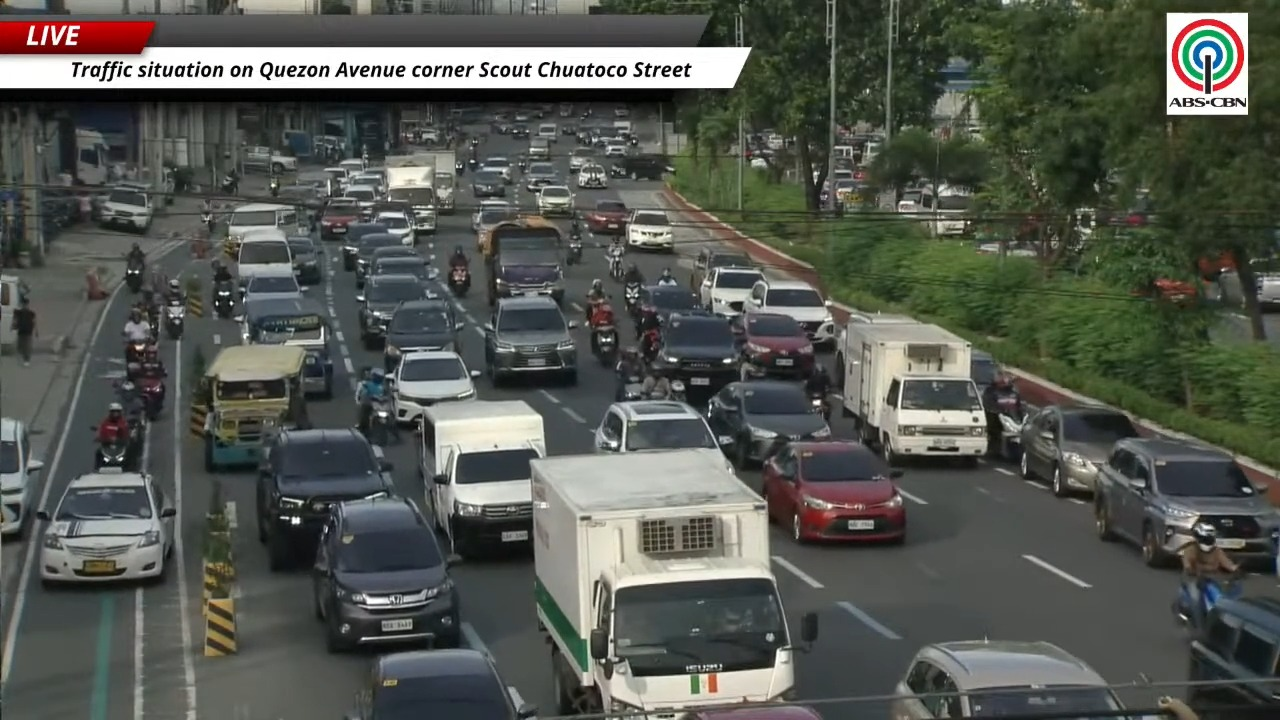car: (1094, 437, 1279, 566), (311, 496, 461, 651), (255, 428, 393, 571), (890, 640, 1127, 719), (37, 469, 174, 584), (762, 441, 906, 542), (347, 649, 536, 719), (1019, 405, 1139, 497), (1187, 597, 1279, 717), (707, 380, 830, 468), (483, 296, 577, 384), (652, 313, 737, 398), (744, 277, 836, 347), (595, 400, 717, 452), (392, 350, 480, 422), (384, 298, 463, 370), (732, 312, 815, 379), (356, 275, 431, 349), (0, 417, 43, 535), (697, 266, 763, 316), (690, 247, 757, 289), (354, 232, 404, 288), (99, 183, 152, 233), (634, 285, 696, 324), (475, 201, 517, 252), (341, 222, 385, 270), (685, 704, 822, 719), (625, 210, 673, 252), (606, 150, 672, 179), (370, 255, 437, 283), (243, 272, 302, 301), (370, 245, 428, 274), (287, 236, 322, 284), (585, 199, 629, 235), (321, 199, 359, 239), (471, 199, 516, 231), (373, 212, 414, 245), (276, 181, 322, 209), (970, 349, 999, 392), (536, 185, 574, 216), (343, 184, 379, 214), (525, 162, 559, 191), (472, 170, 506, 198), (372, 200, 414, 221), (350, 170, 384, 195), (480, 158, 512, 184), (577, 164, 607, 188), (569, 147, 596, 172), (323, 166, 349, 190), (527, 136, 550, 160), (604, 139, 626, 157), (537, 124, 558, 142), (608, 162, 625, 178), (510, 125, 530, 138), (515, 111, 532, 122), (614, 106, 629, 118)
motorcycle: (1172, 574, 1242, 634), (589, 301, 618, 366), (366, 396, 393, 446), (137, 377, 166, 422), (94, 440, 129, 470), (592, 325, 617, 366), (213, 281, 234, 318), (165, 303, 185, 339), (448, 265, 470, 297), (640, 329, 660, 363), (607, 246, 624, 281), (125, 263, 144, 293), (624, 282, 640, 317), (621, 376, 644, 400), (809, 393, 829, 419), (125, 340, 146, 364), (566, 233, 582, 264), (147, 304, 161, 338), (670, 379, 686, 401), (221, 175, 238, 194), (201, 212, 214, 232), (269, 176, 279, 196), (467, 158, 478, 170), (455, 162, 465, 175), (518, 159, 527, 172), (469, 136, 479, 147), (629, 135, 637, 146)
truck: (532, 449, 817, 716), (838, 322, 986, 463), (419, 398, 545, 556), (483, 215, 564, 306), (833, 310, 919, 388), (386, 153, 437, 235), (424, 150, 457, 214)
